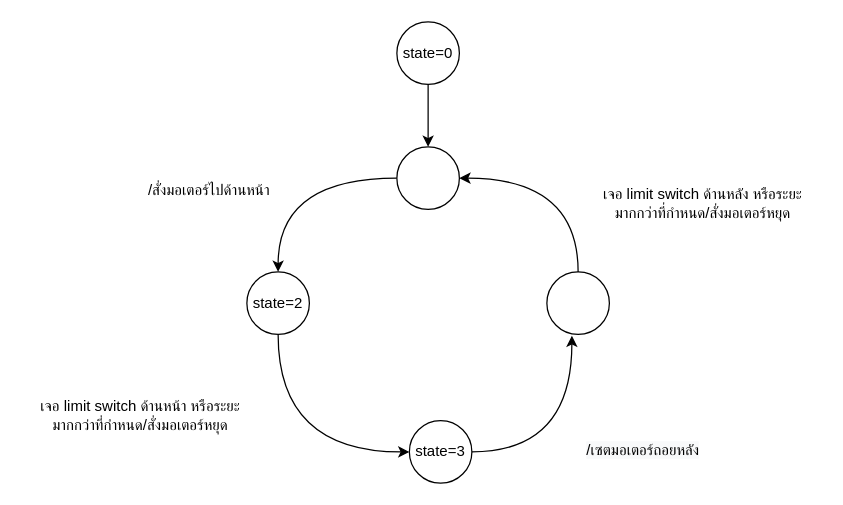
The diagram is 843 pixels wide and 505 high, and some of its shapes have lost their labels. The box of each missing label's shape, as (x1, y1, x2, y2) in pixels:
state=1: (396, 146, 459, 209)
state=4: (546, 271, 609, 334)
